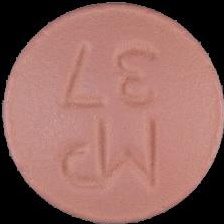55695-032: (0, 0, 224, 224)
